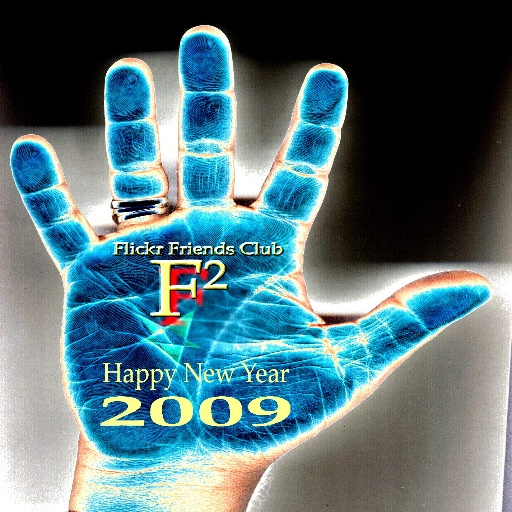hand: (4, 21, 497, 479)
